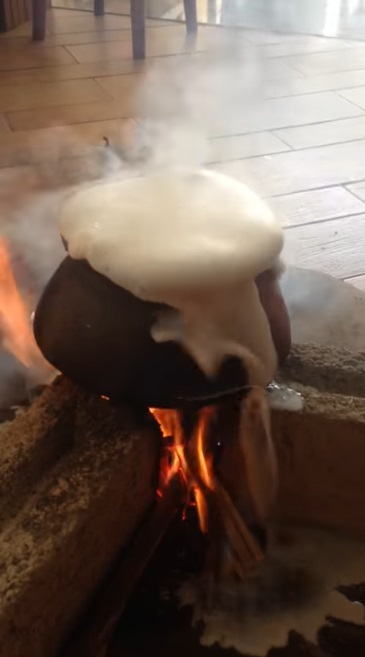Boiled: (67, 157, 299, 430)
